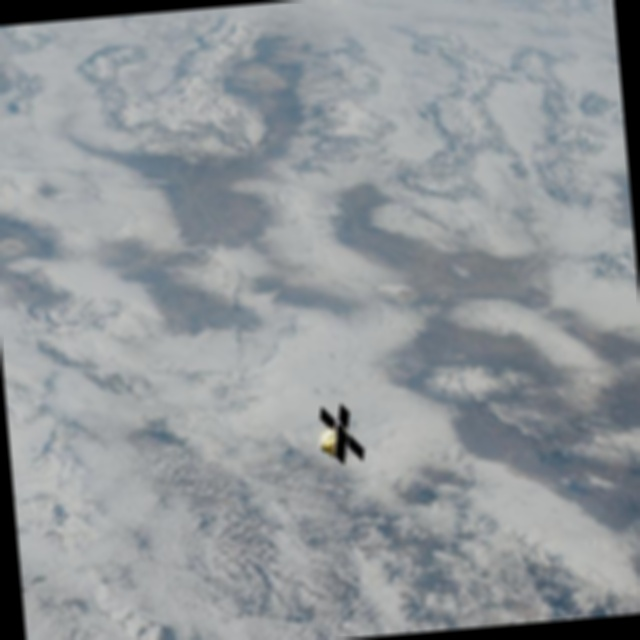satellite: (309, 395, 379, 474)
